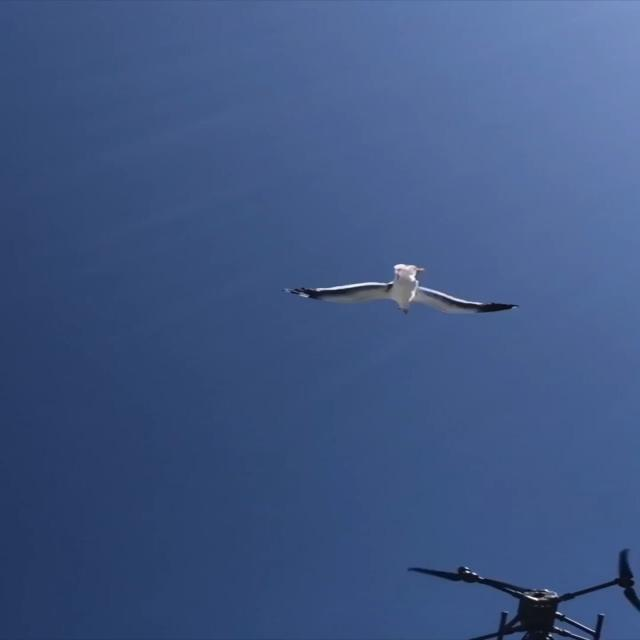bird: (281, 263, 519, 315)
drone: (406, 547, 638, 639)
